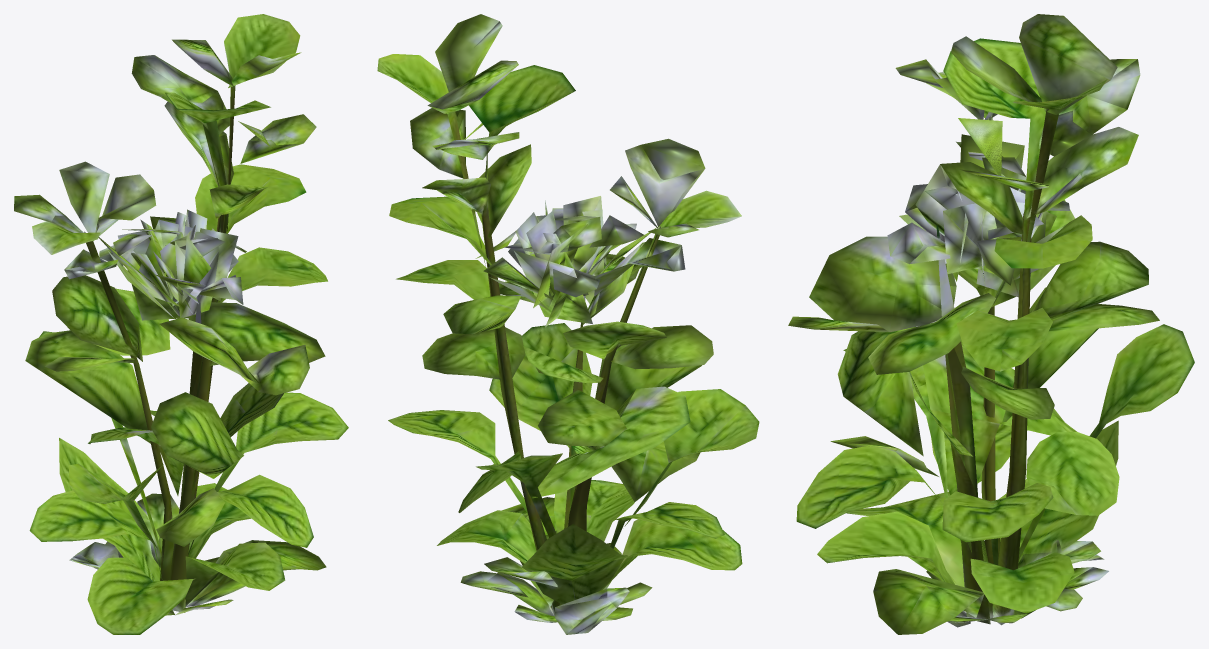
File: crop-mint.glb
3 views of the same model, side by side, from view 1: azimuth 30°, elevation 25°; view 2: azimuth 150°, elevation 25°; view 3: azimuth 270°, elevation 25° (orthographic). The views are drawn at different scales.
Visible parts, largest first — view 1: plant, fruit; view 2: plant, fruit; view 3: plant, fruit.
Boxes of the visible parts, x1=… form: plant: x1=14, y1=14, x2=348, y2=634; fruit: x1=15, y1=40, x2=244, y2=609; plant: x1=377, y1=14, x2=759, y2=634; fruit: x1=437, y1=21, x2=704, y2=634; plant: x1=788, y1=14, x2=1194, y2=634; fruit: x1=887, y1=36, x2=1140, y2=622.
Size of the model in its own units: 0.2125 by 0.35 by 0.2069.
Materials: 1 (1 with a texture image).
